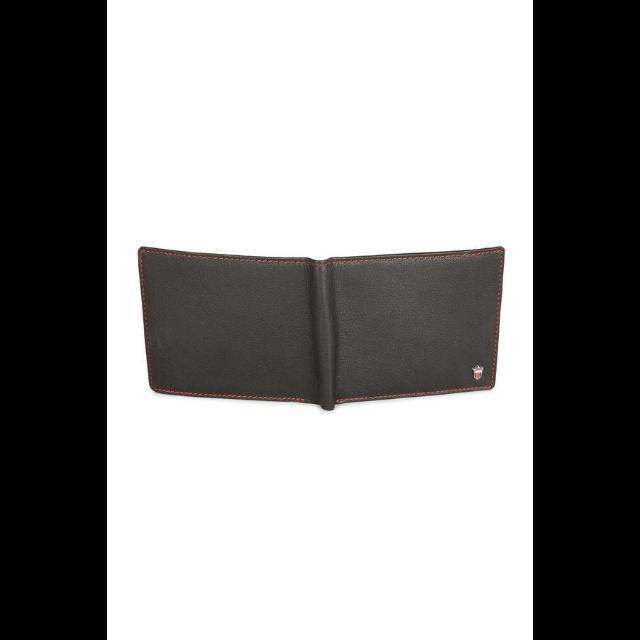wallet: (139, 245, 501, 410)
